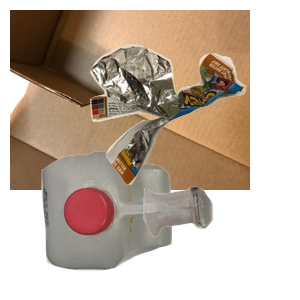cardboard: (10, 10, 250, 190)
glass: (141, 184, 300, 300)
plastic: (39, 149, 203, 300)
trash: (88, 42, 300, 219)
